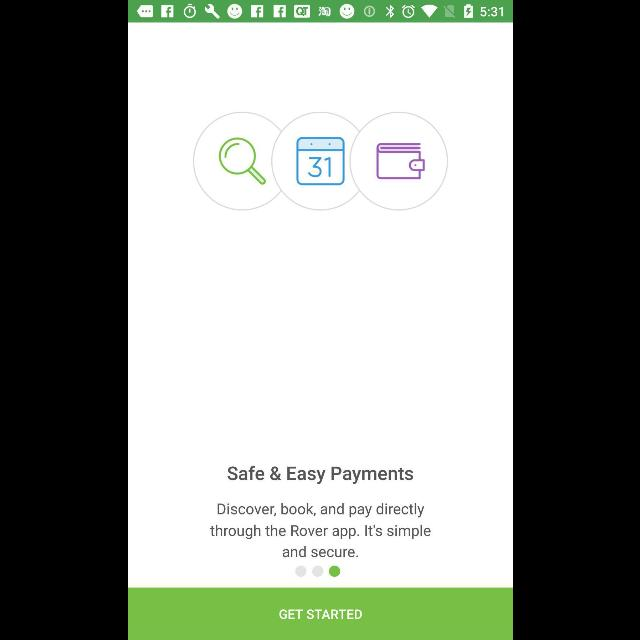image: (192, 112, 448, 210)
pageindicator: (294, 565, 340, 577)
text: (210, 503, 430, 557), (227, 466, 413, 484)
textbutton: (128, 588, 512, 640)
uppertaskbar: (128, 1, 512, 23)
